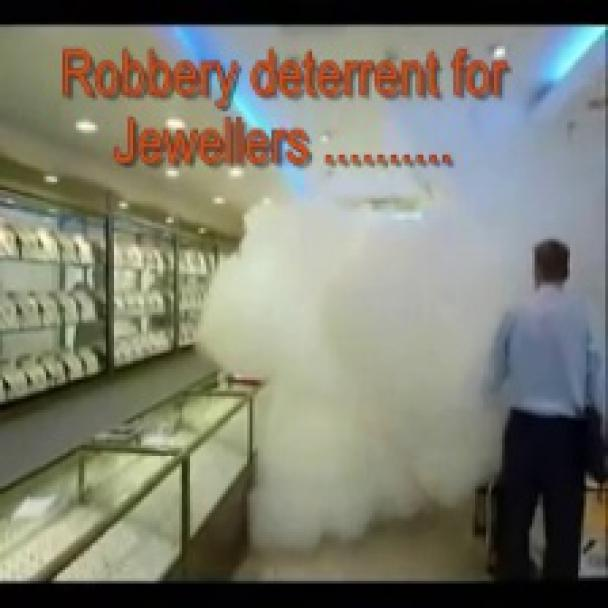smoke: (185, 141, 605, 576)
